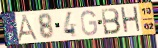4: (61, 11, 79, 39)
8: (37, 12, 55, 40)
A: (16, 13, 41, 43)
B: (100, 7, 122, 36)
G: (80, 9, 99, 37)
H: (119, 5, 143, 35)
